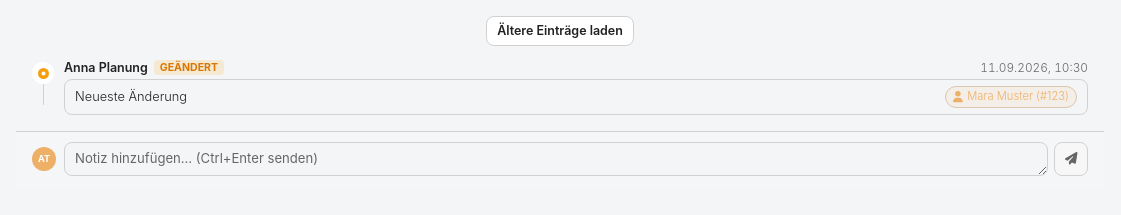
Test: OrderChronikTimeline › shows stable names and field differences, and appends older pages without duplicates in top-to-bottom chronological order
This screenshot has width=1121, height=215.
What coordinates should you click on to do the following:
click the button with class "chronik-more"
I would click on:
 (560, 31)
Its box is [486,16,634,46].
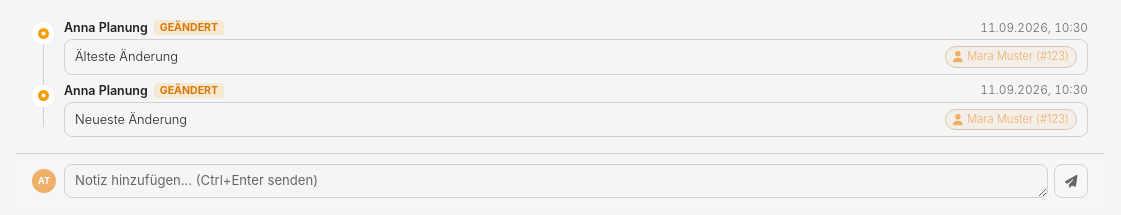
expect the list item with class "chronik-entry" shows "Neueste Änderung": met, box [75,112,187,126]
expect the number of list items with class "chronik-entry" is 2: met, box [32,20,1088,75]; [32,83,1088,137]
expect the list item with class "chronik-entry" shows "Älteste Änderung": met, box [75,49,178,64]
